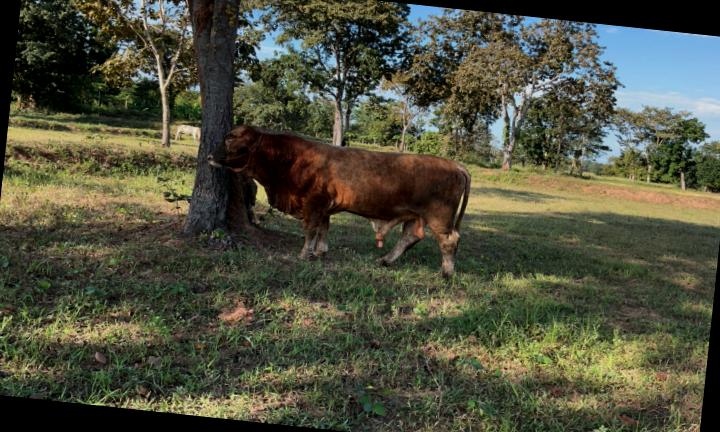Charolais: (206, 124, 470, 277)
